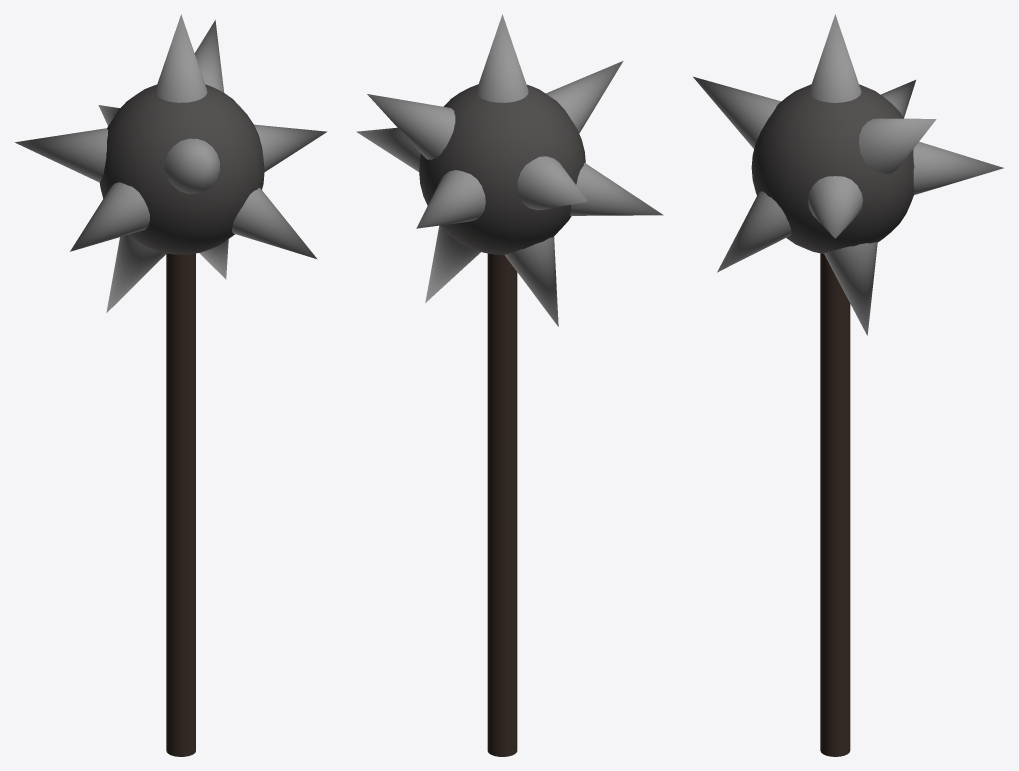
The model's file is batonFBX.fbx.
The picture shows the model from 3 angles, left to right: view 1: azimuth 30°, elevation 25°; view 2: azimuth 150°, elevation 25°; view 3: azimuth 270°, elevation 25°; orthographic projection.
Visible parts, largest first — view 1: pasted__pSphere1, pasted__pCylinder5, pasted__pasted__pCone1 (×3), pasted__pasted__pasted__pCone1, pasted__pasted__pasted__pCone2, pasted__pCone1, pasted__pasted__pCone2, pasted__pasted__pCone4, pasted__pasted__pCone3; view 2: pasted__pSphere1, pasted__pCylinder5, pasted__pasted__pCone1 (×3), pasted__pasted__pCone4, pasted__pasted__pasted__pCone2, pasted__pCone1, pasted__pasted__pasted__pCone1, pasted__pasted__pCone2, pasted__pasted__pCone3; view 3: pasted__pSphere1, pasted__pCylinder5, pasted__pasted__pCone1 (×4), pasted__pasted__pCone4, pasted__pasted__pCone3, pasted__pCone1, pasted__pasted__pasted__pCone2.
Boxes of the visible parts, x1,y1,x2,y2 form: pasted__pSphere1: [99, 84, 264, 254]; pasted__pCylinder5: [166, 253, 195, 756]; pasted__pasted__pCone1 (×3): [164, 124, 327, 259]; pasted__pasted__pasted__pCone1: [70, 182, 149, 251]; pasted__pasted__pasted__pCone2: [15, 128, 108, 182]; pasted__pCone1: [155, 14, 207, 102]; pasted__pasted__pCone2: [106, 235, 166, 312]; pasted__pasted__pCone4: [194, 20, 224, 92]; pasted__pasted__pCone3: [199, 239, 228, 279]; pasted__pSphere1: [419, 84, 585, 254]; pasted__pCylinder5: [487, 253, 517, 756]; pasted__pasted__pCone1 (×3): [356, 61, 623, 228]; pasted__pasted__pCone4: [367, 94, 455, 159]; pasted__pasted__pasted__pCone2: [517, 156, 587, 210]; pasted__pCone1: [476, 14, 528, 102]; pasted__pasted__pasted__pCone1: [570, 163, 663, 215]; pasted__pasted__pCone2: [504, 237, 558, 326]; pasted__pasted__pCone3: [425, 225, 480, 302]; pasted__pSphere1: [751, 84, 914, 253]; pasted__pCylinder5: [820, 253, 850, 756]; pasted__pasted__pCone1 (×4): [693, 76, 1003, 272]; pasted__pasted__pCone4: [859, 118, 936, 173]; pasted__pasted__pCone3: [824, 242, 877, 335]; pasted__pCone1: [809, 14, 861, 102]; pasted__pasted__pasted__pCone2: [881, 80, 915, 117].
Size of the model in its own units: 0.4256 by 1.06 by 0.4064.
